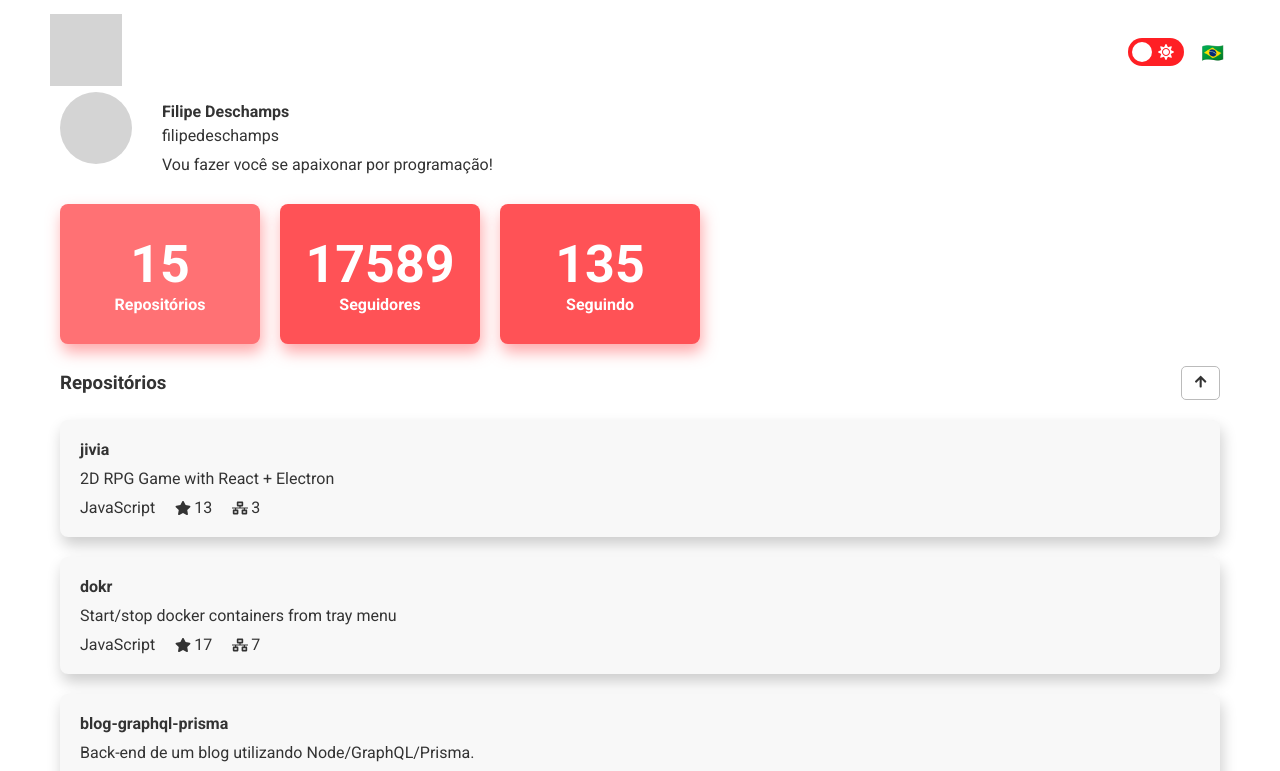
Test case: followers › should select followers tab
Click the element with id "followers-card". click: coordinates (380, 274)
box: [280,204,480,344]
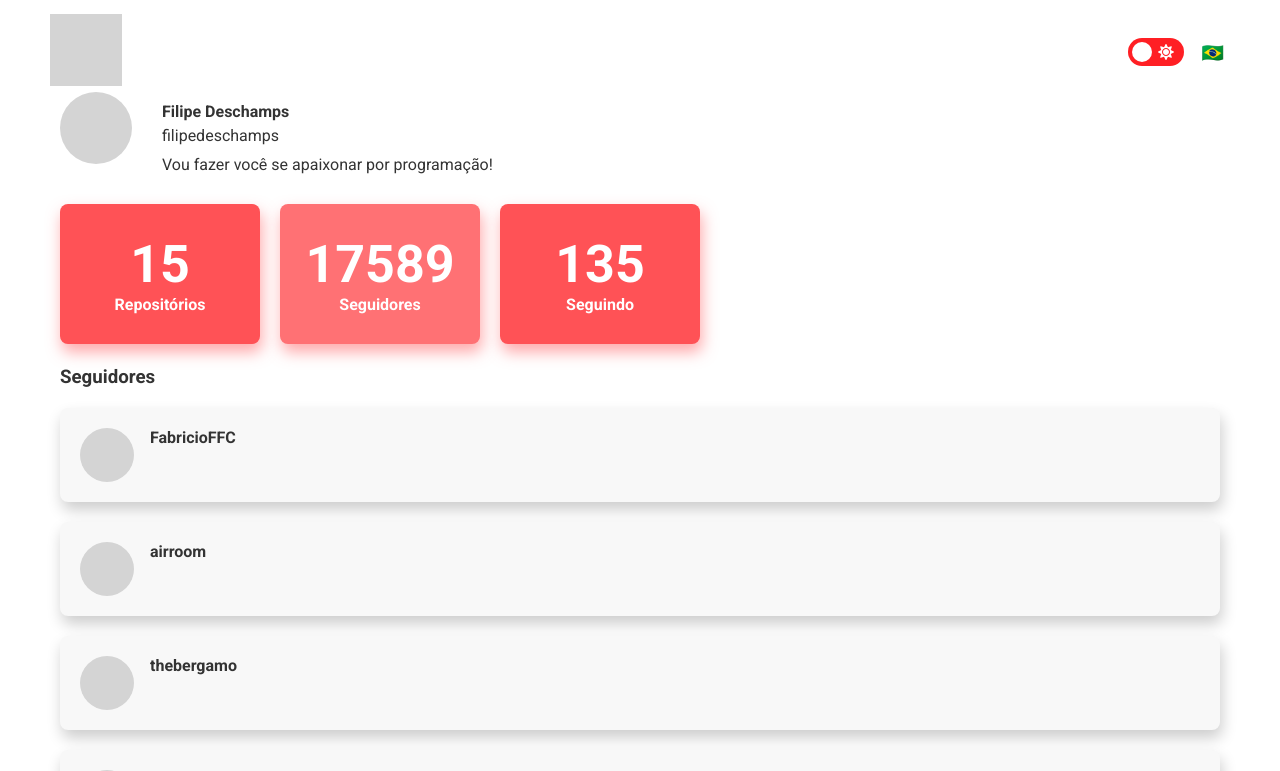
Expected: the heading "Seguidores" is shown, [60,366,155,388]
